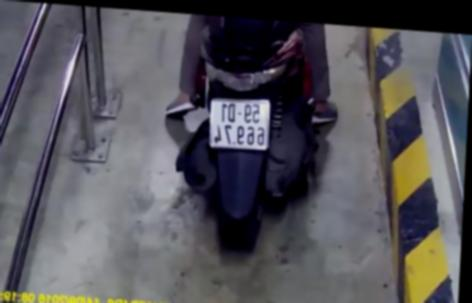License_Plate: (203, 91, 280, 161)
